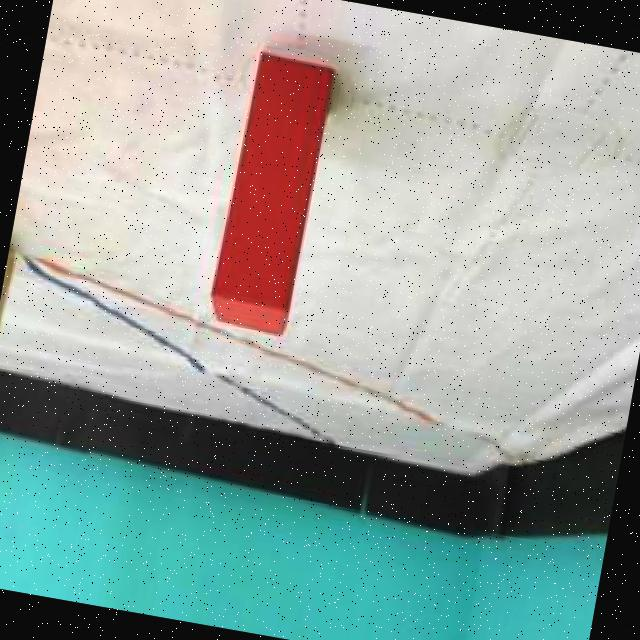redbox: (209, 52, 329, 336)
